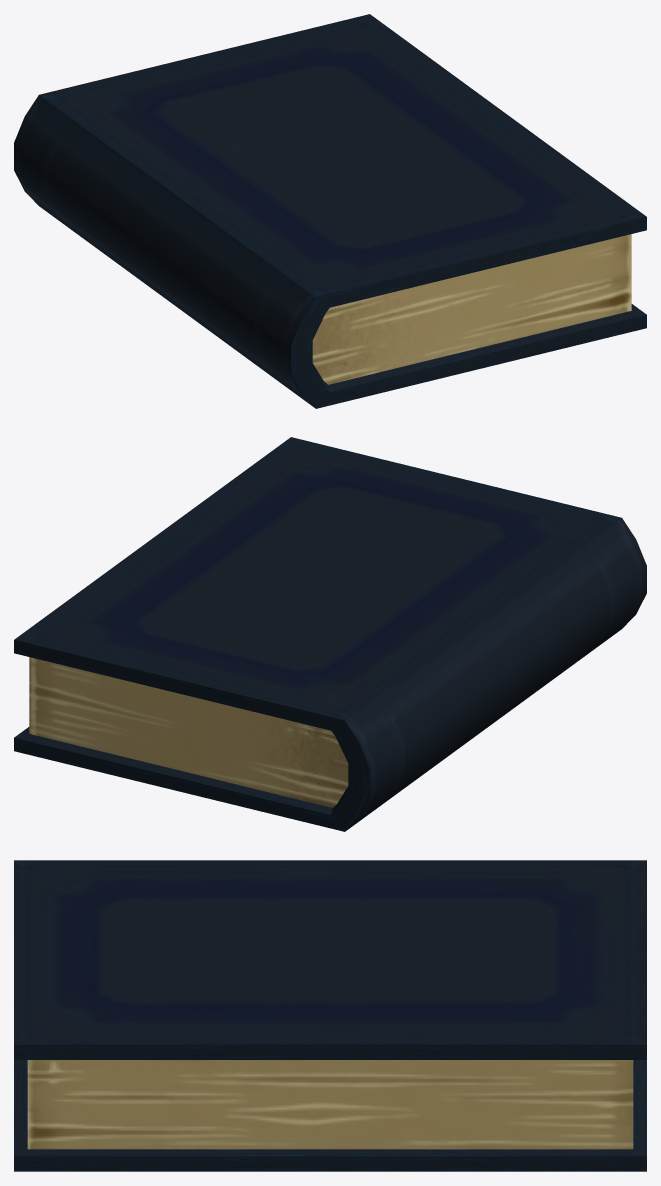
The model's file is Book_5.gltf.
3 views of the same model, one above another, from view 1: azimuth 30°, elevation 25°; view 2: azimuth 150°, elevation 25°; view 3: azimuth 270°, elevation 25° (orthographic). The views are drawn at different scales.
Visible parts, largest first — view 1: Book_5; view 2: Book_5; view 3: Book_5.
Boxes of the visible parts, x1=… form: Book_5: x1=14, y1=14, x2=646, y2=408; Book_5: x1=14, y1=437, x2=646, y2=831; Book_5: x1=14, y1=860, x2=646, y2=1171.
Bounding box in the file's own units: 0.2129 × 0.0636 × 0.2871.
Materials: 1 (1 with a texture image).
